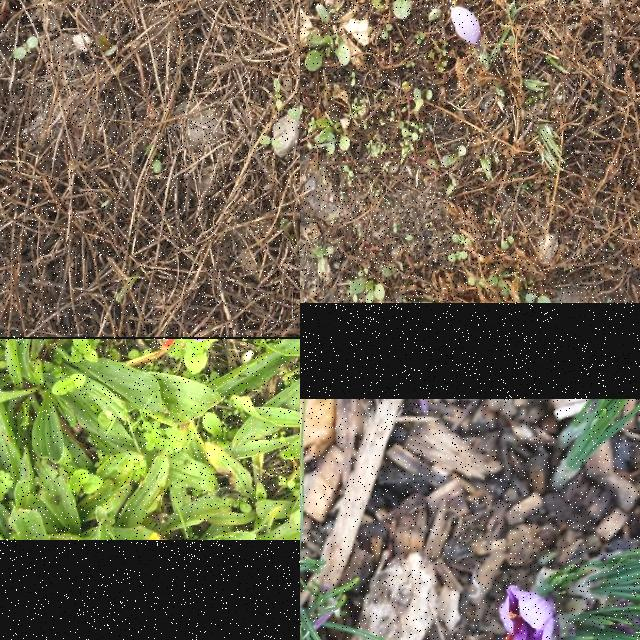flower: (467, 585, 554, 640), (450, 7, 482, 47)
